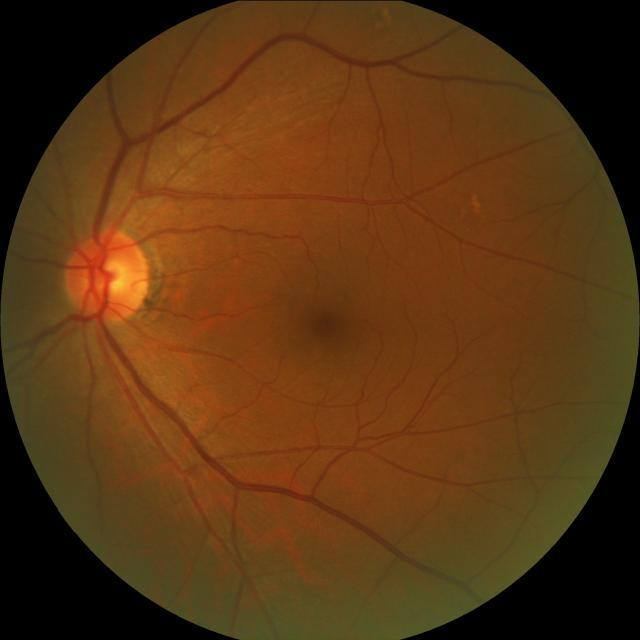OC: (97, 260, 128, 292)
OD: (66, 226, 152, 322)
